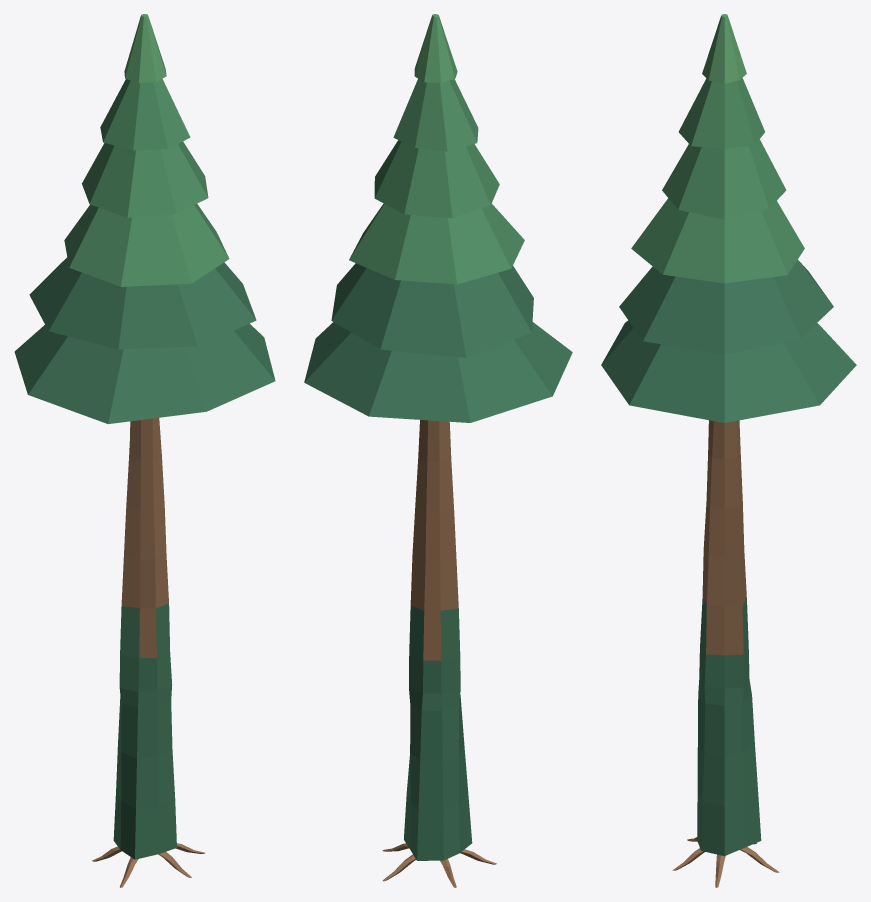
The model's file is tree_pine_large.glb.
The picture shows the model from 3 angles, left to right: view 1: azimuth 30°, elevation 25°; view 2: azimuth 150°, elevation 25°; view 3: azimuth 270°, elevation 25°; orthographic projection.
Visible parts, largest first — view 1: Tree_Pine_Large_Top, Tree_Pine_Large_Base; view 2: Tree_Pine_Large_Top, Tree_Pine_Large_Base; view 3: Tree_Pine_Large_Top, Tree_Pine_Large_Base.
Part boxes in pixels (x1=…): Tree_Pine_Large_Top: x1=14, y1=14, x2=275, y2=691; Tree_Pine_Large_Base: x1=92, y1=685, x2=205, y2=887; Tree_Pine_Large_Top: x1=304, y1=14, x2=572, y2=693; Tree_Pine_Large_Base: x1=382, y1=687, x2=496, y2=887; Tree_Pine_Large_Top: x1=601, y1=14, x2=856, y2=688; Tree_Pine_Large_Base: x1=672, y1=679, x2=779, y2=887.
Size of the model in its own units: 7.61 by 26.1 by 7.16.
